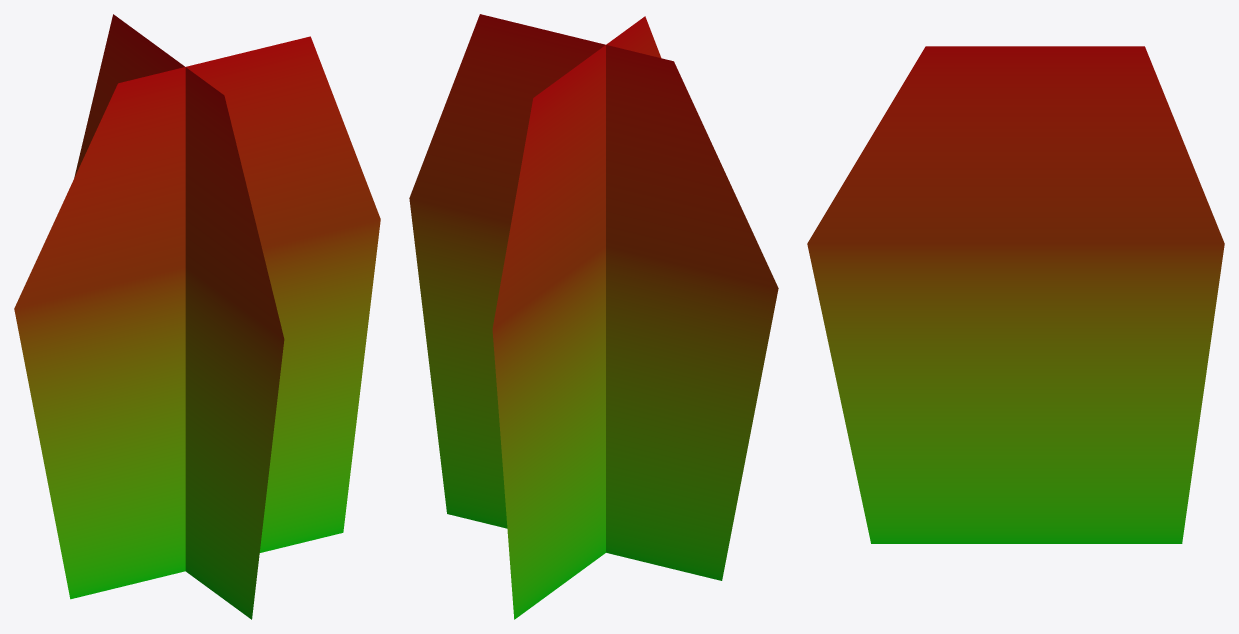
The model's file is Var1_LOD5.fbx.
3 views of the same model, side by side, from view 1: azimuth 30°, elevation 25°; view 2: azimuth 150°, elevation 25°; view 3: azimuth 270°, elevation 25° (orthographic). The views are drawn at different scales.
Parts seen in each view (by area): view 1: _335j_Var1_LOD5; view 2: _335j_Var1_LOD5; view 3: _335j_Var1_LOD5.
Boxes of the visible parts, <box> form: _335j_Var1_LOD5: <box>14,14,380,619</box>; _335j_Var1_LOD5: <box>409,14,778,619</box>; _335j_Var1_LOD5: <box>807,46,1224,543</box>.
Size of the model in its own units: 54.06 by 71.07 by 54.06.
